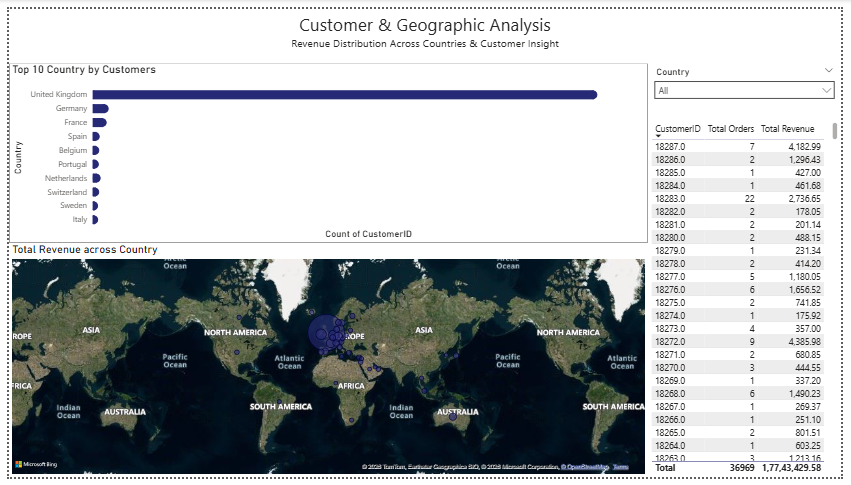

The page's visual inventory and layout, read from the dashboard file:
{"tool":"powerbi","page":{"name":"Customer and Geography","canvas":[1280,720],"ordinal":2},"visuals":[{"type":"map","title":"Total Revenue across Country","fields":{"Category":["ecommerce_db orders.Country"],"Size":["ecommerce_db orders.TotalRevenue"]},"box":[0,360,982.9,360],"z":0},{"type":"barChart","title":"Top 10 Country by Customers","fields":{"Category":["ecommerce_db orders.Country"],"Y":["Count(ecommerce_db orders.CustomerID)"]},"box":[0,83.7,982.9,276.3],"z":1000},{"type":"tableEx","fields":{"Values":["ecommerce_db orders.CustomerID","ecommerce_db orders.TotalOrders","ecommerce_db orders.TotalRevenue"]},"box":[982.9,168.8,297.3,551.2],"z":2000},{"type":"slicer","fields":{"Values":["ecommerce_db orders.Country"]},"box":[982.9,83.7,297.3,85.1],"z":3000},{"type":"textbox","box":[0,0,1280.2,83.7],"z":4000}]}

Visuals, with their boxes in screenshot pixels (x1, y1, x2, y2), scaled from the page's 1280x720 canvas onto the 851x485 screenshot:
"Total Revenue across Country" map: [0, 243, 653, 484]
"Top 10 Country by Customers" barChart: [0, 56, 653, 243]
tableEx - ecommerce_db orders.CustomerID x ecommerce_db orders.TotalOrders: [653, 114, 850, 484]
slicer - ecommerce_db orders.Country: [653, 56, 850, 114]
textbox: [0, 0, 850, 56]
